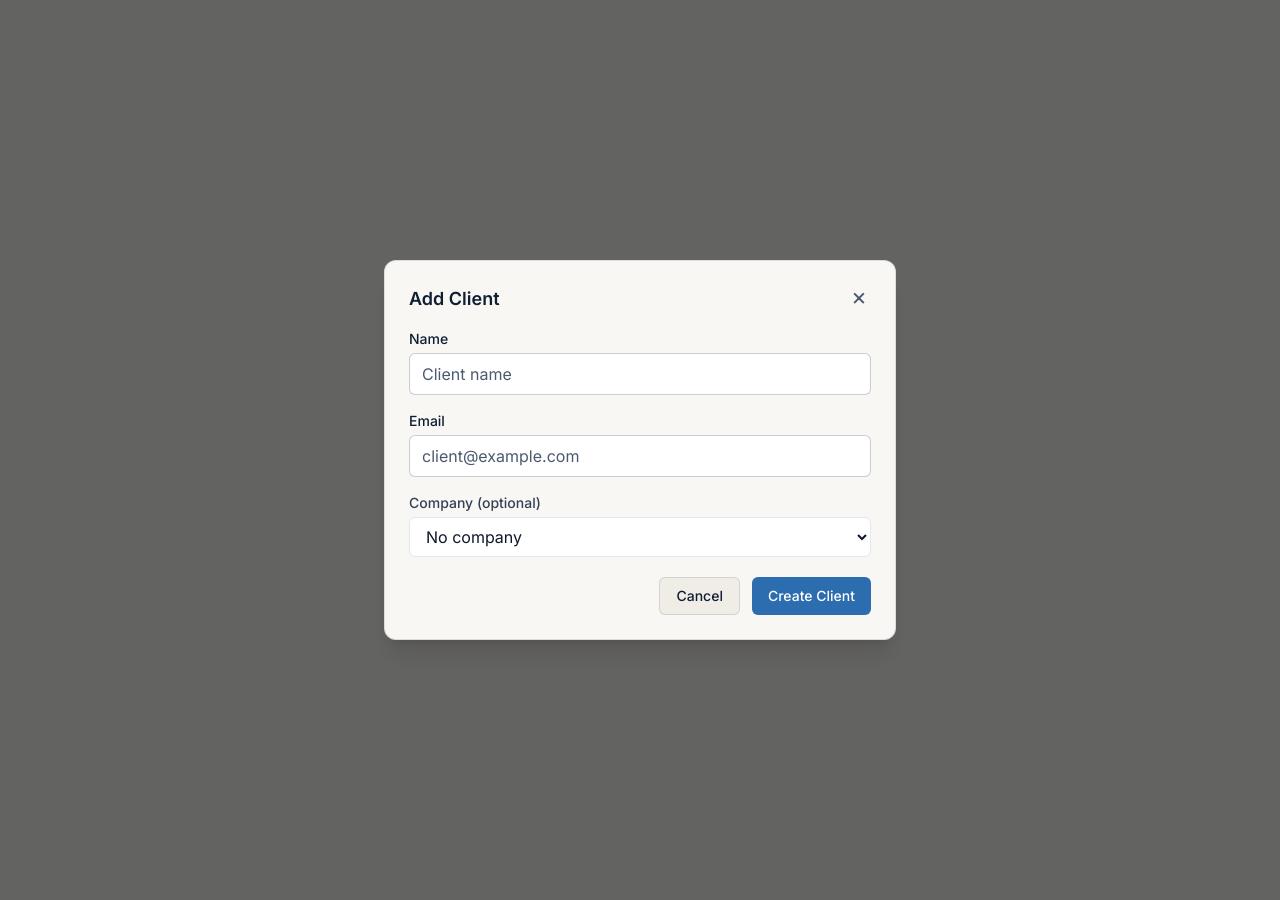
it: AddClientModal › shows a validation error for an invalid email
In the field labelled "Name": (640, 374) [409,353,871,395], type "Jane Doe"
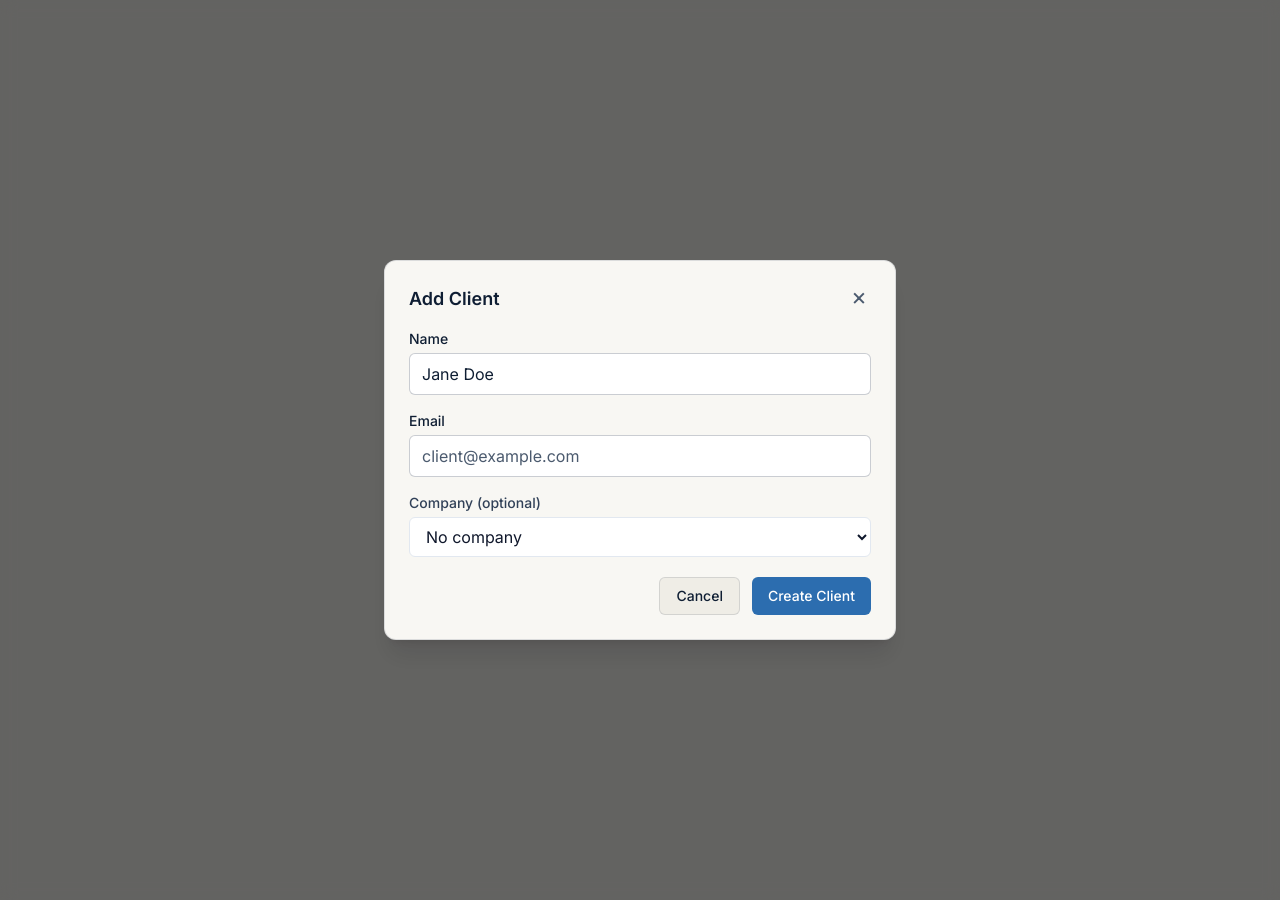
In the field labelled "Email": (640, 456) [409,435,871,477], type "not-an-email"
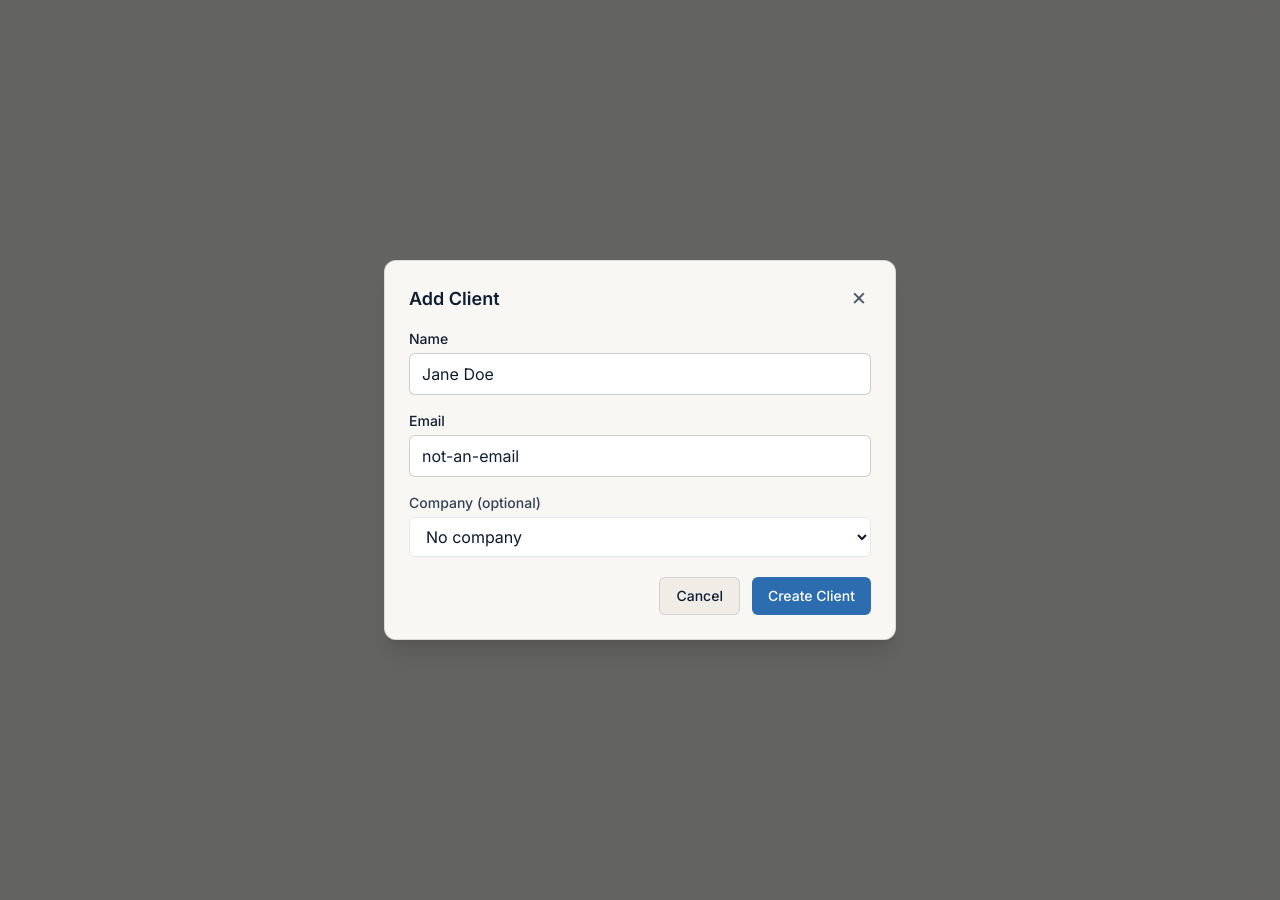
Click the button "Create Client": (812, 596) [752,577,871,615]
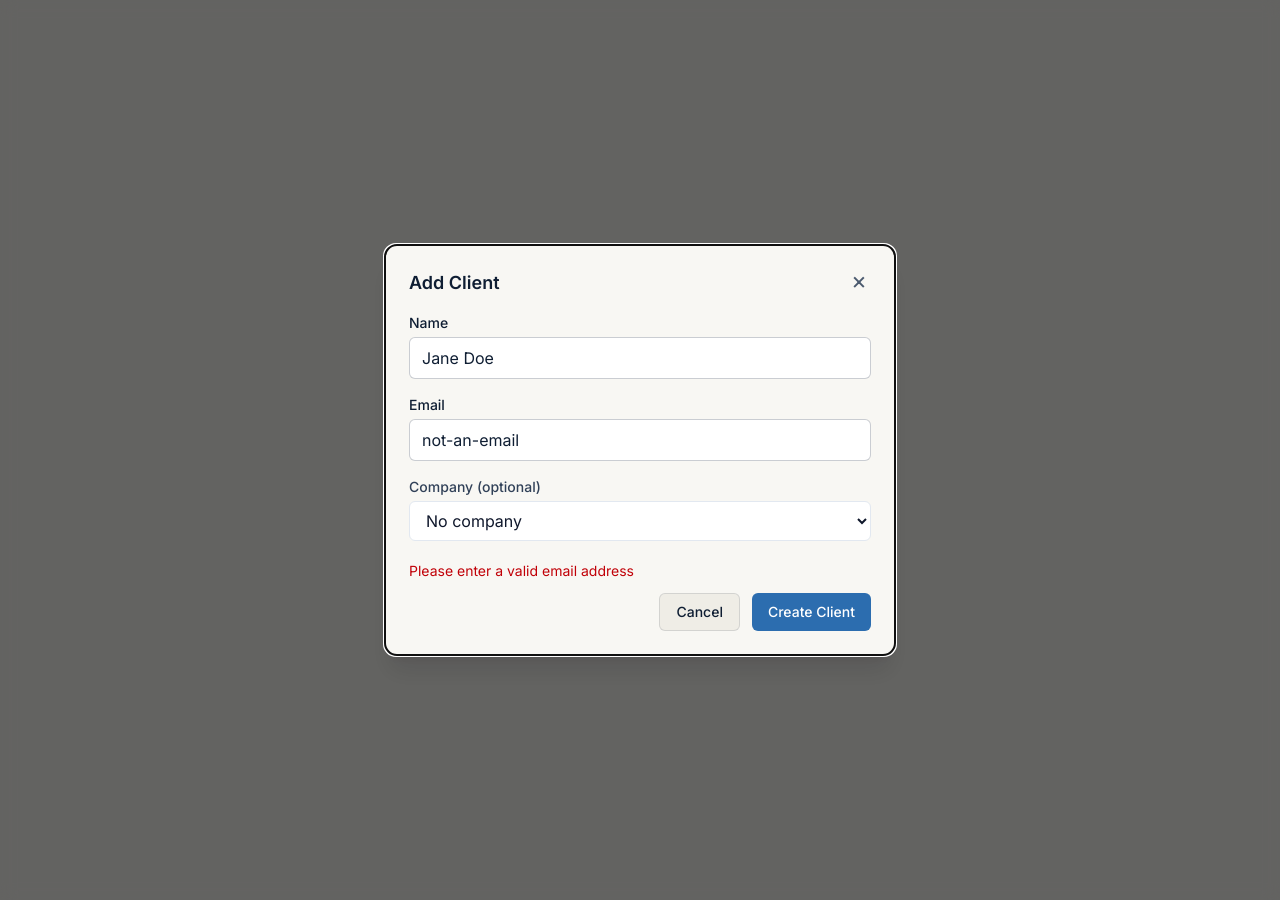
Check: the message shows "valid email", box [409,562,634,579]
